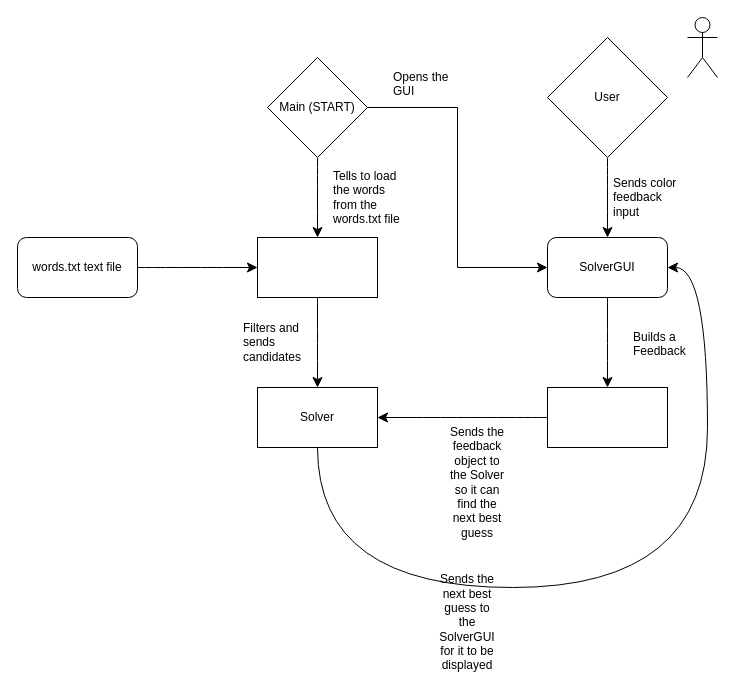
Image size: 735x690. Some labels were removed from this diagram. The shapes that lost their labels are listed below. From the top down, each one's centre as x and y in pixels, then its label:
point 702,47: Actor
point 317,267: WordList
point 607,417: Feedback
